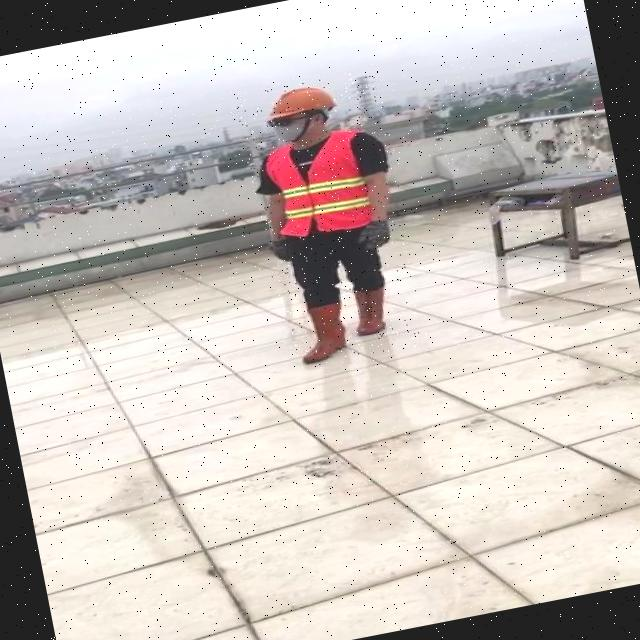boots: (292, 299, 352, 364), (350, 284, 394, 336)
helmet: (260, 79, 342, 124)
vest: (261, 128, 376, 242)
